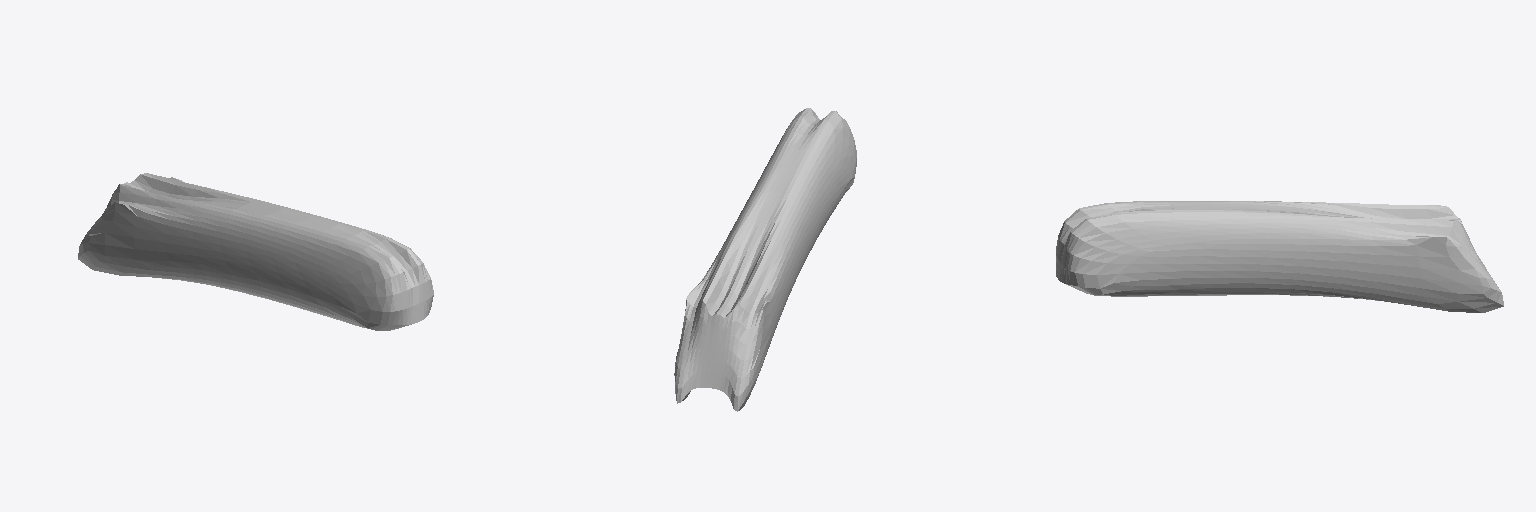
Rendered from rearlsmalltoebaseobj.obj.
3 renders of one model, left to right at view 1: azimuth 30°, elevation 25°; view 2: azimuth 150°, elevation 25°; view 3: azimuth 270°, elevation 25°, orthographic.
Parts seen in each view (by area): view 1: Cube.153_Cube.155; view 2: Cube.153_Cube.155; view 3: Cube.153_Cube.155.
Part boxes in pixels (x1,y1,x2,y2): Cube.153_Cube.155: (78,173,433,330); Cube.153_Cube.155: (674,108,856,411); Cube.153_Cube.155: (1056,201,1503,312).
Size of the model in its own units: 0.0527 by 0.0434 by 0.1331.